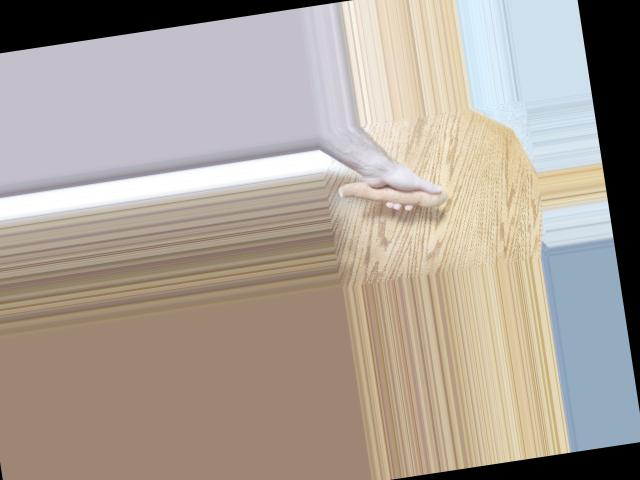sweet_potato: (336, 167, 447, 221)
